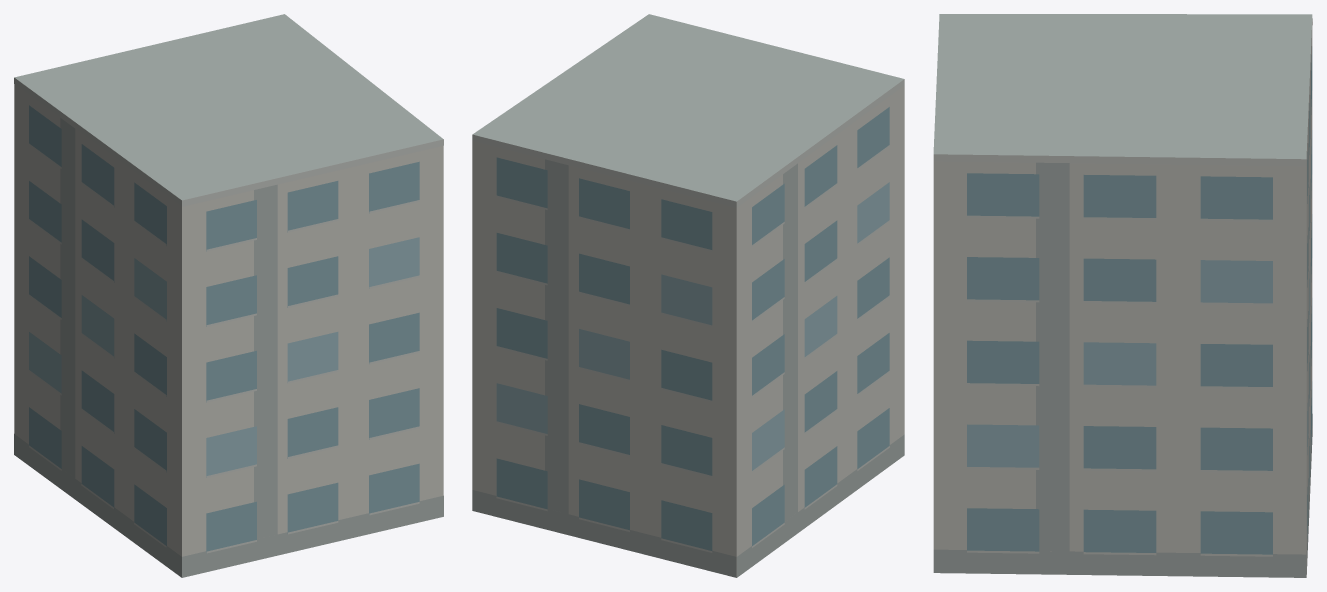
The model's file is survey-upis-32577408.glb.
3 views of the same model, side by side, from view 1: azimuth 30°, elevation 25°; view 2: azimuth 150°, elevation 25°; view 3: azimuth 270°, elevation 25° (orthographic). The views are drawn at different scales.
Parts seen in each view (by area): view 1: survey-upis-32577408.tmp; view 2: survey-upis-32577408.tmp; view 3: survey-upis-32577408.tmp.
Boxes of the visible parts, x1,y1,x2,y2 form: survey-upis-32577408.tmp: (14,14,443,577); survey-upis-32577408.tmp: (472,14,904,577); survey-upis-32577408.tmp: (933,14,1312,577).
Bounding box in the file's own units: 10.73 × 14.4 × 11.82.
